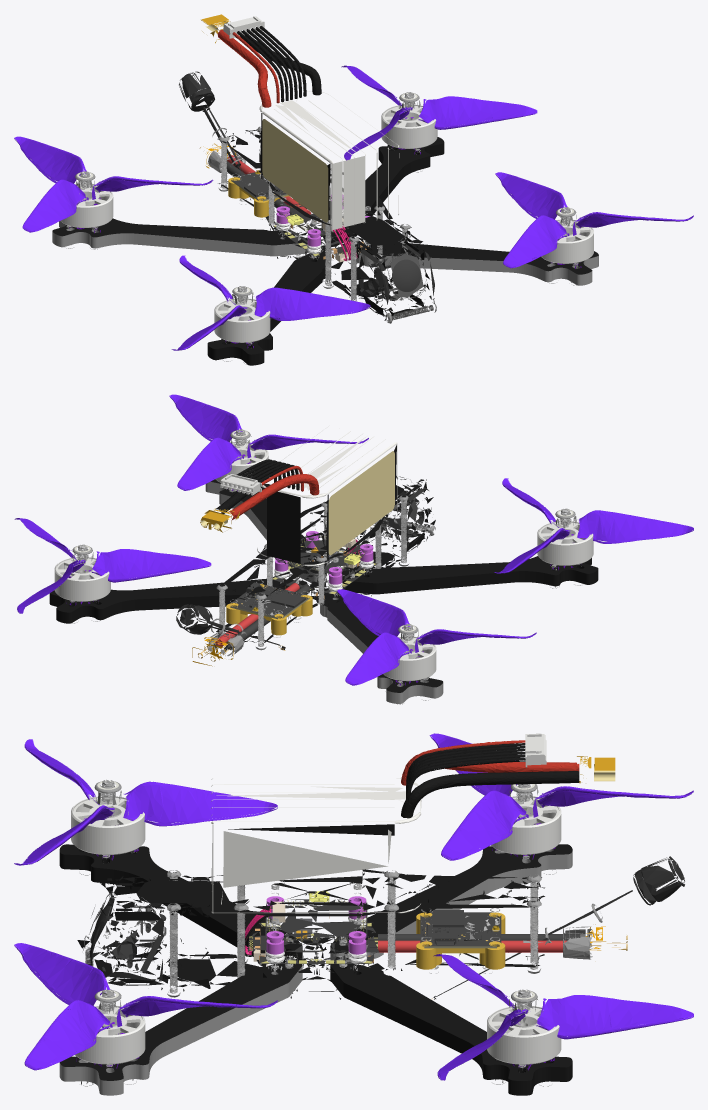
File: fpv5.glb
3 views of the same model, one above another, from view 1: azimuth 30°, elevation 25°; view 2: azimuth 150°, elevation 25°; view 3: azimuth 270°, elevation 25° (orthographic). The views are drawn at different scales.
Visible parts, largest first — view 1: helice__4__m0, helice__2__m0, frame_carbono__0__m1, bateria__0__m2, bateria__0__m0, helice__1__m0, helice__3__m0, braco__4__m0, braco__4__m1, braco__3__m0, braco__1__m0, bateria__0__m1 (+14 smaller); view 2: braco__3__m0, helice__4__m0, helice__2__m0, braco__1__m0, bateria__0__m2, helice__1__m0, helice__3__m0, bateria__0__m1, frame_carbono__0__m1, motor__3__m3, motor__1__m3, motor__4__m3 (+19 smaller); view 3: frame_carbono__0__m1, braco__1__m0, bateria__0__m0, helice__2__m0, helice__1__m0, helice__3__m0, bateria__0__m1, helice__4__m0, braco__3__m0, braco__2__m1, braco__2__m0, braco__4__m1 (+22 smaller).
Part boxes in pixels (x1,y1,x2,y2): helice__4__m0: (14, 136, 213, 232); helice__2__m0: (495, 172, 693, 268); frame_carbono__0__m1: (217, 129, 434, 320); bateria__0__m2: (206, 21, 328, 222); bateria__0__m0: (259, 91, 399, 231); helice__1__m0: (341, 65, 537, 160); helice__3__m0: (171, 255, 370, 350); braco__4__m0: (52, 221, 307, 256); braco__4__m1: (52, 218, 307, 245); braco__3__m0: (207, 250, 325, 365); braco__1__m0: (321, 137, 444, 246); bateria__0__m1: (232, 26, 330, 222); braco__3__m0: (342, 556, 598, 594); helice__4__m0: (337, 589, 536, 685); helice__2__m0: (169, 394, 368, 490); braco__1__m0: (49, 578, 307, 623); bateria__0__m2: (201, 451, 394, 555); helice__1__m0: (14, 518, 211, 613); helice__3__m0: (494, 478, 693, 573); bateria__0__m1: (215, 445, 396, 563); frame_carbono__0__m1: (216, 479, 435, 644); motor__3__m3: (537, 521, 593, 565); motor__1__m3: (54, 557, 110, 601); motor__4__m3: (383, 636, 436, 681); frame_carbono__0__m1: (77, 869, 544, 999); braco__1__m0: (330, 964, 572, 1095); bateria__0__m0: (211, 778, 421, 913); helice__2__m0: (14, 943, 277, 1070); helice__1__m0: (433, 954, 693, 1080); helice__3__m0: (14, 739, 277, 865); bateria__0__m1: (228, 743, 579, 835); helice__4__m0: (429, 733, 693, 860); braco__3__m0: (59, 844, 302, 962); braco__2__m1: (60, 962, 302, 1080); braco__2__m0: (59, 966, 302, 1095); braco__4__m1: (330, 844, 572, 949).
Bounding box in the file's own units: 0.2966 × 0.1093 × 0.2521.
